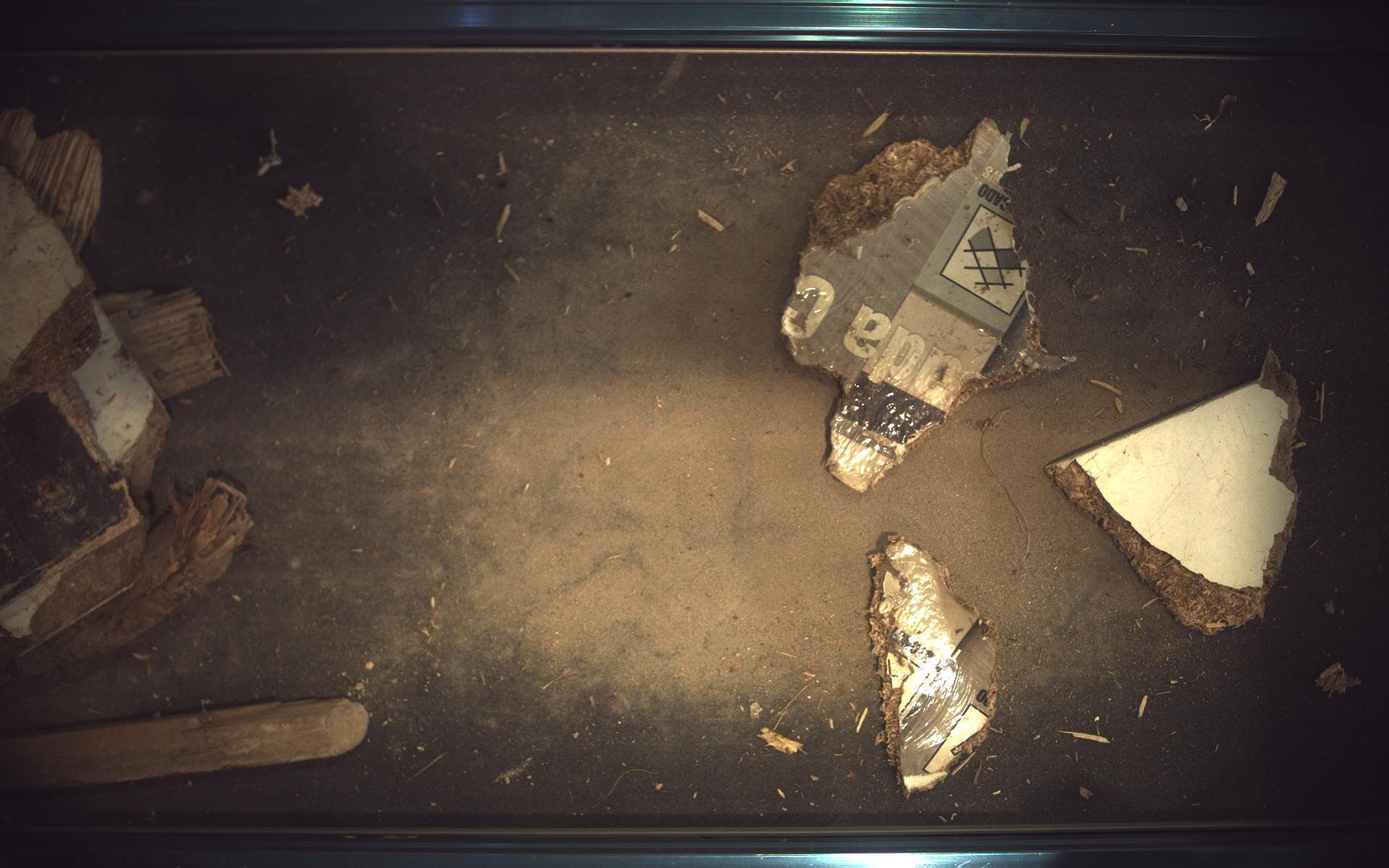wood: (783, 118, 1076, 492)
